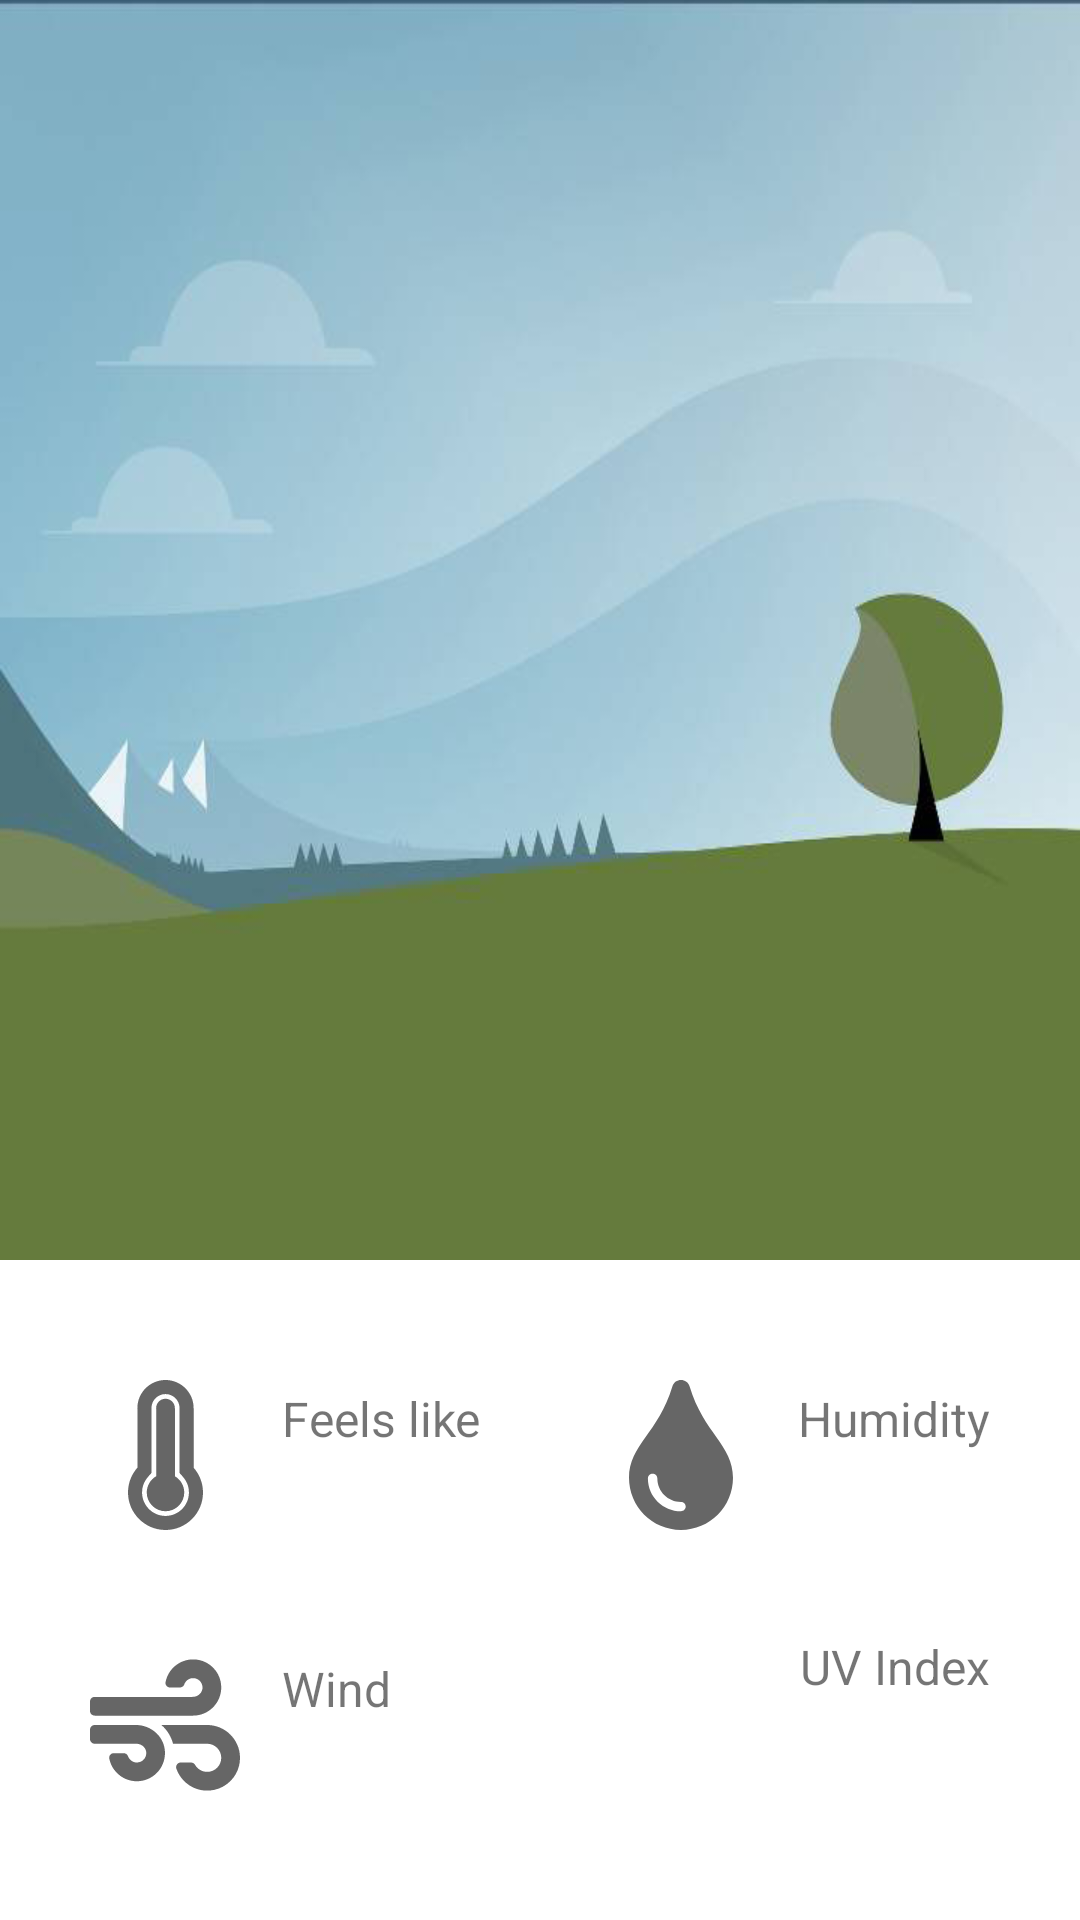

Icon click points for this 1080x1920 phone screenshot, format point (x, y):
thermometer: point (165, 1455)
